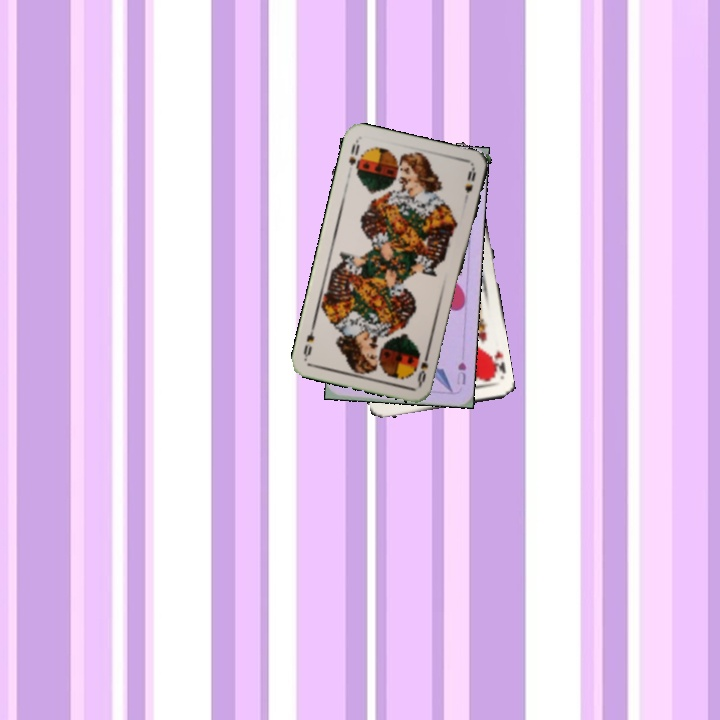HK: (485, 347, 508, 381)
HU: (453, 358, 469, 387)
SO: (413, 347, 432, 388), (344, 137, 362, 171)
